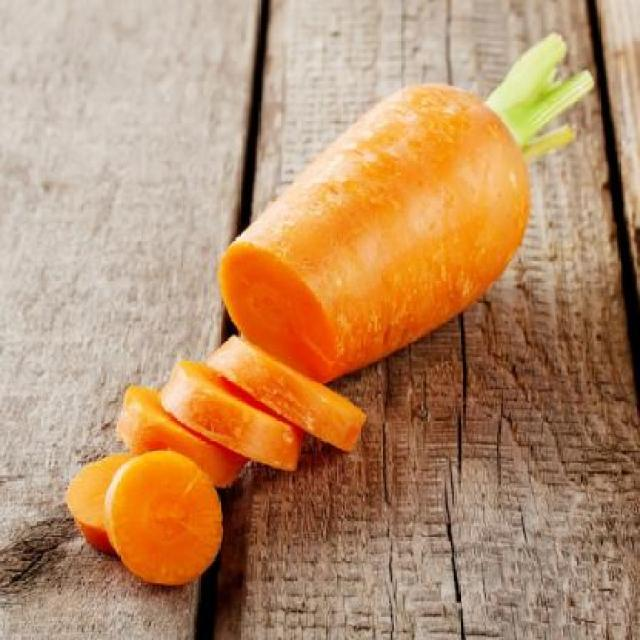carrot: (219, 35, 599, 381)
